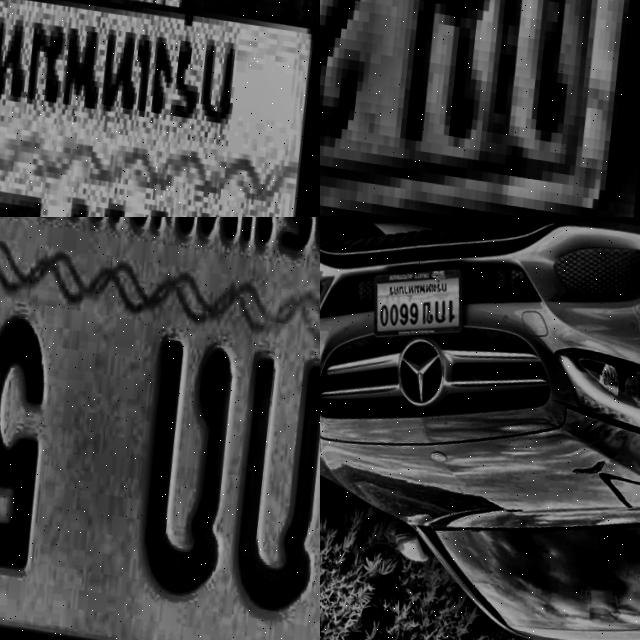license-plate: (0, 217, 320, 640), (0, 0, 320, 217), (320, 0, 640, 217), (363, 245, 473, 355)
